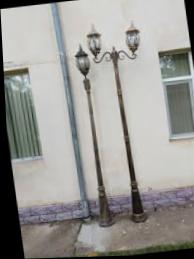Animal: (88, 19, 175, 214), (66, 40, 122, 227)
